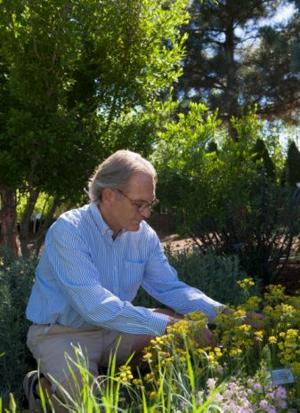person: (22, 150, 265, 413)
